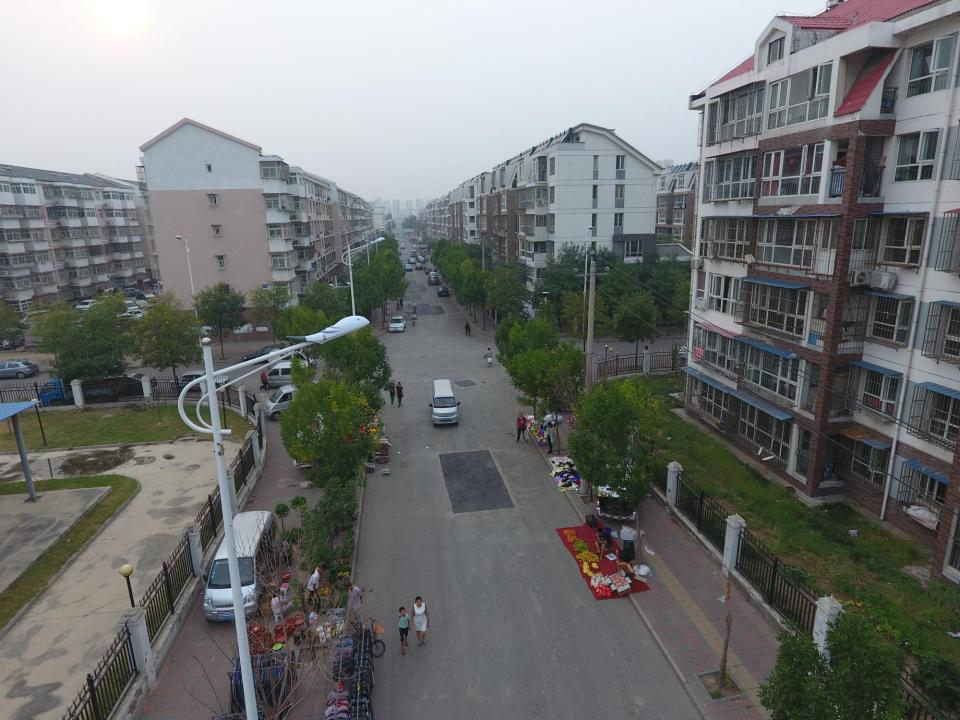car: (171, 371, 229, 391), (242, 344, 291, 364), (106, 372, 158, 390), (0, 358, 39, 378), (118, 310, 148, 321), (74, 300, 100, 312), (389, 316, 406, 332), (116, 288, 141, 298), (127, 300, 151, 310), (95, 295, 116, 306), (138, 292, 156, 302), (436, 286, 449, 296), (429, 276, 440, 285), (415, 263, 423, 270), (404, 264, 413, 270), (419, 257, 428, 263), (429, 272, 437, 278), (408, 258, 416, 264), (417, 255, 423, 262), (412, 244, 417, 249), (394, 237, 399, 242), (405, 236, 409, 239)
truck: (37, 380, 114, 406), (411, 250, 417, 258)
van: (203, 511, 281, 622), (596, 455, 640, 521), (263, 382, 323, 421), (428, 379, 460, 426), (262, 362, 314, 390), (268, 348, 316, 370), (17, 310, 52, 328), (0, 328, 25, 348), (120, 300, 138, 314), (400, 243, 405, 249)
